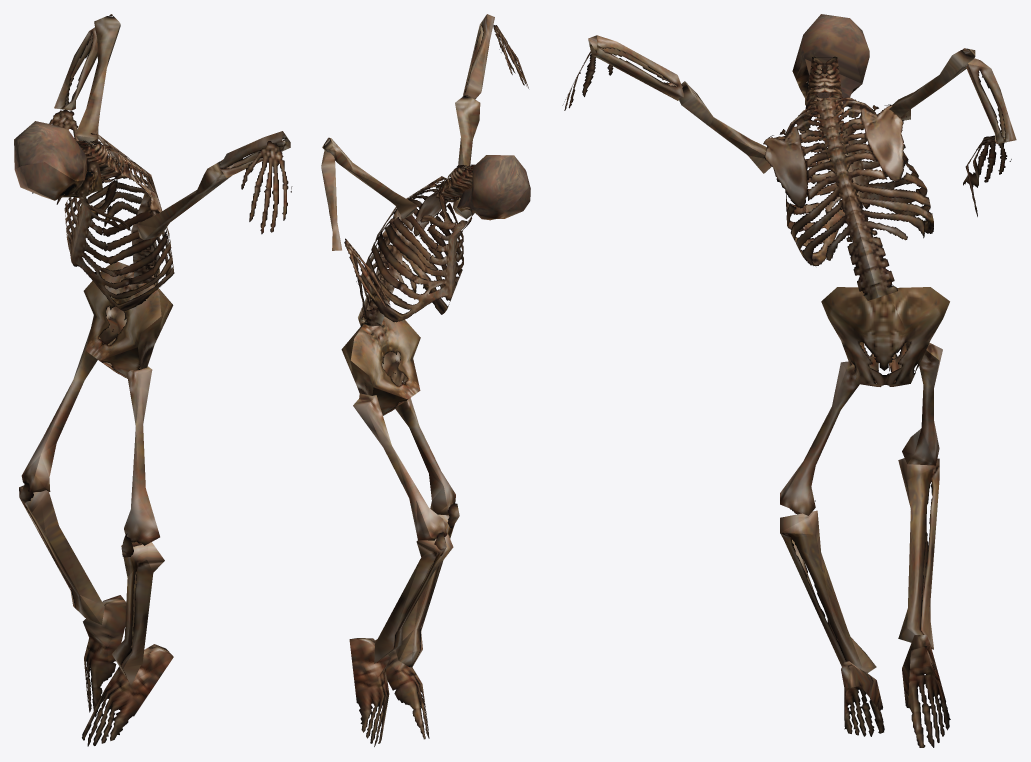
File: skelet1.obj
3 views of the same model, side by side, from view 1: azimuth 30°, elevation 25°; view 2: azimuth 150°, elevation 25°; view 3: azimuth 270°, elevation 25° (orthographic). The views are drawn at different scales.
Visible parts, largest first — view 1: Group; view 2: Group; view 3: Group.
Part boxes in pixels (x1,y1,x2,y2): Group: (14, 14, 292, 746); Group: (321, 14, 530, 746); Group: (562, 14, 1016, 747).
Bounding box in the file's own units: 18.5 × 72.29 × 40.7.
